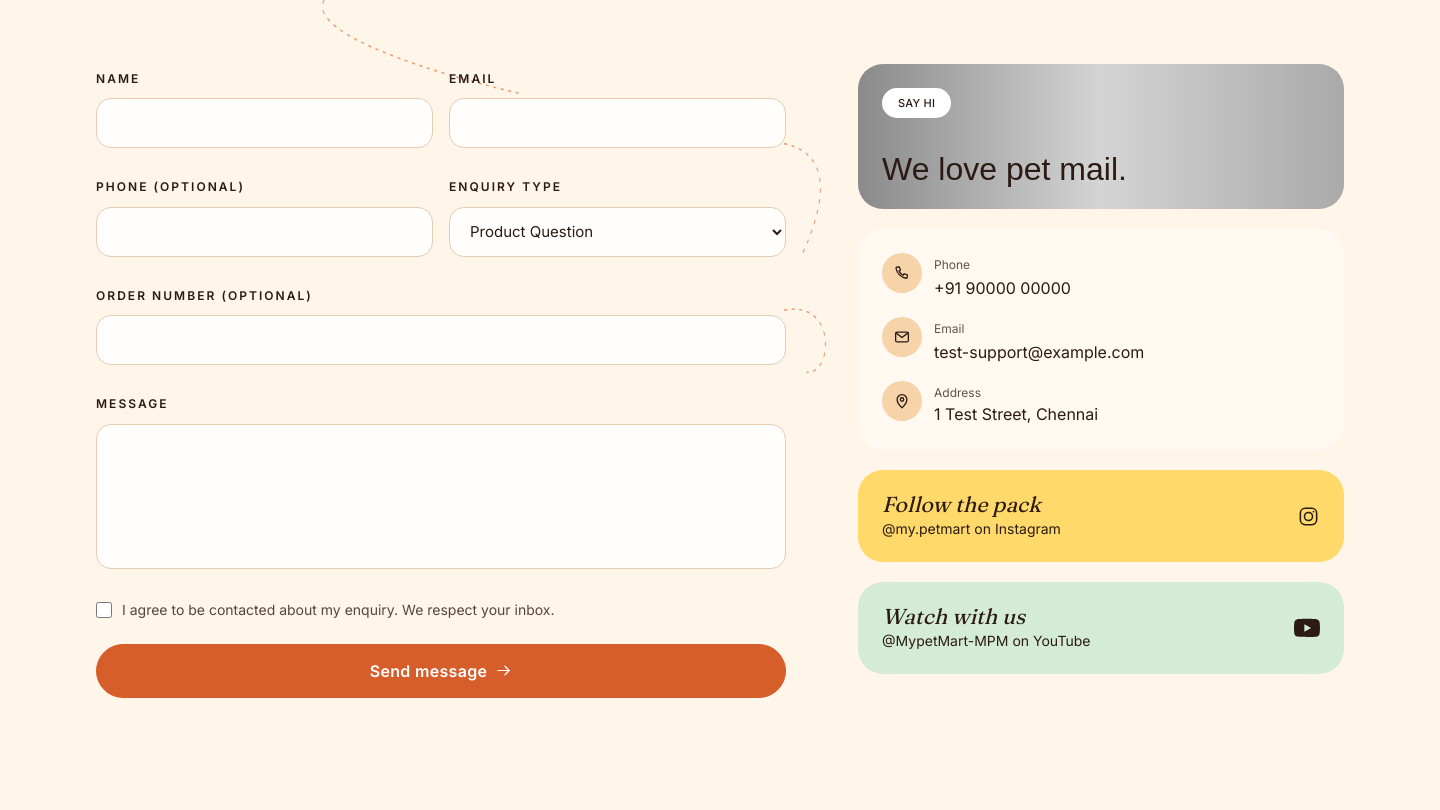
Test: ContactFormSection › shows a friendly inline error on API failure, without leaking raw error detail
Type "Priya Sharma" into the field labelled "Name". click: (264, 123)
box: [96,98,433,148]
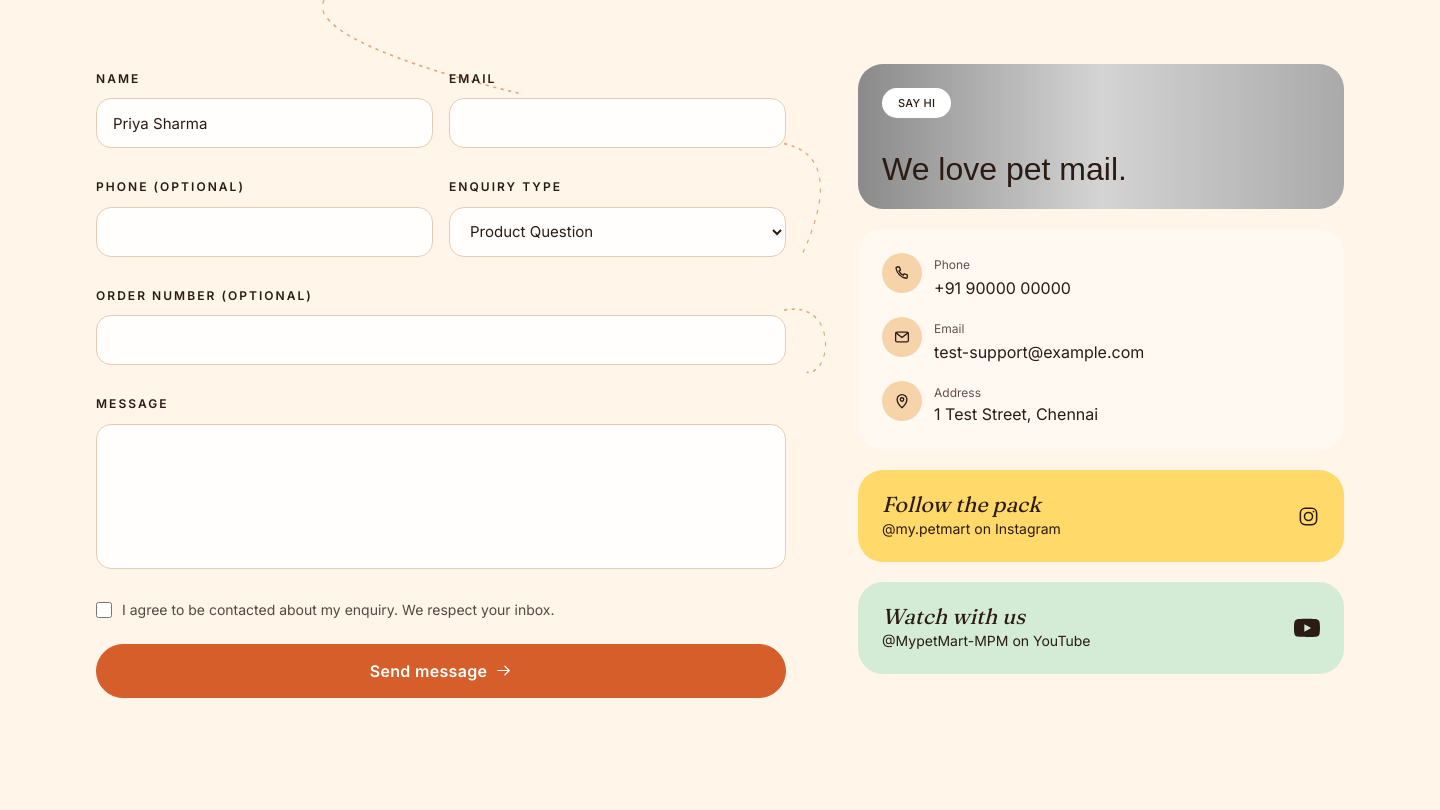
Type "priya@example.com" into the field labelled "Email". click: (618, 123)
box: [449,98,786,148]
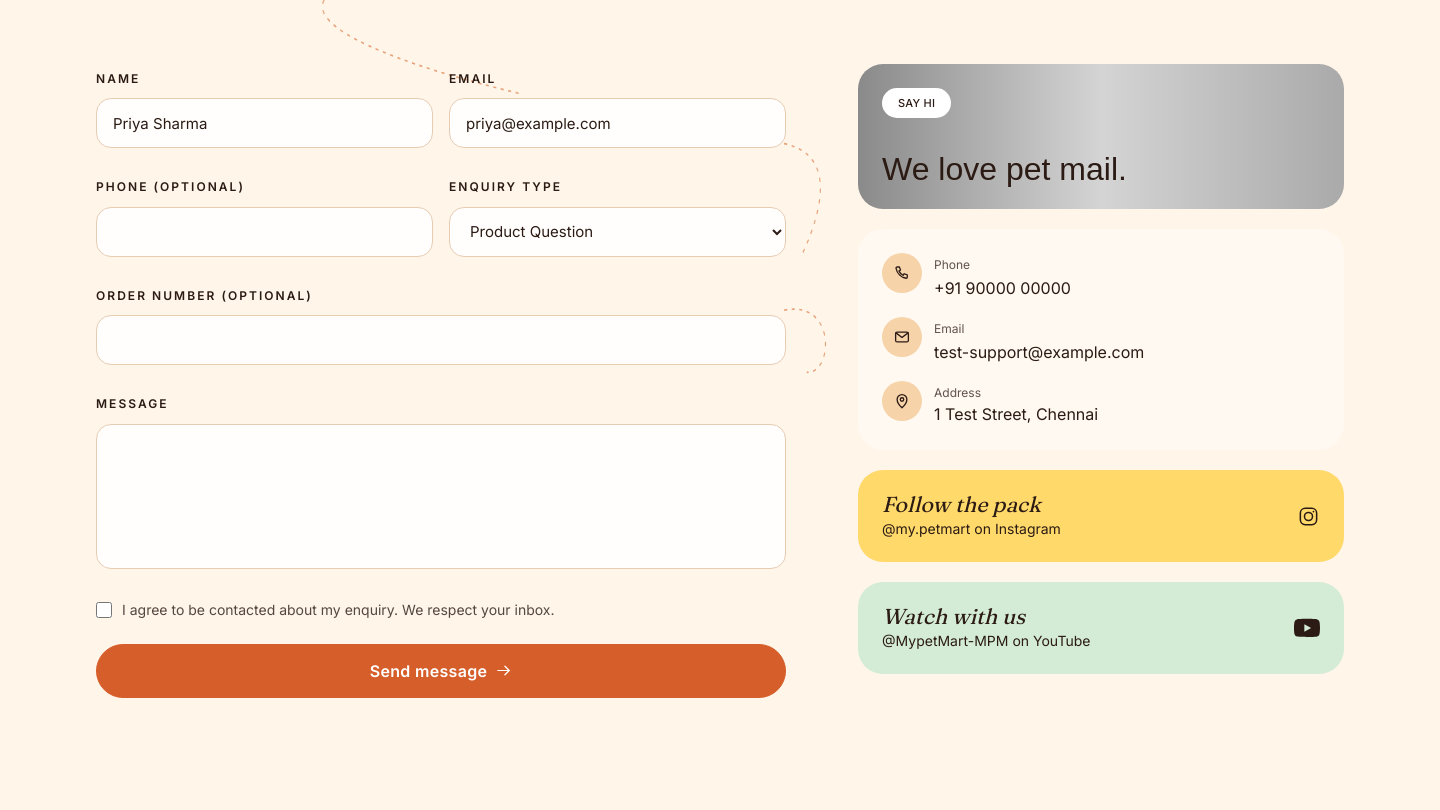
Type "Does this shampoo work for cats?" into the text box labelled "Message". click: (441, 496)
box: [96,424,786,569]
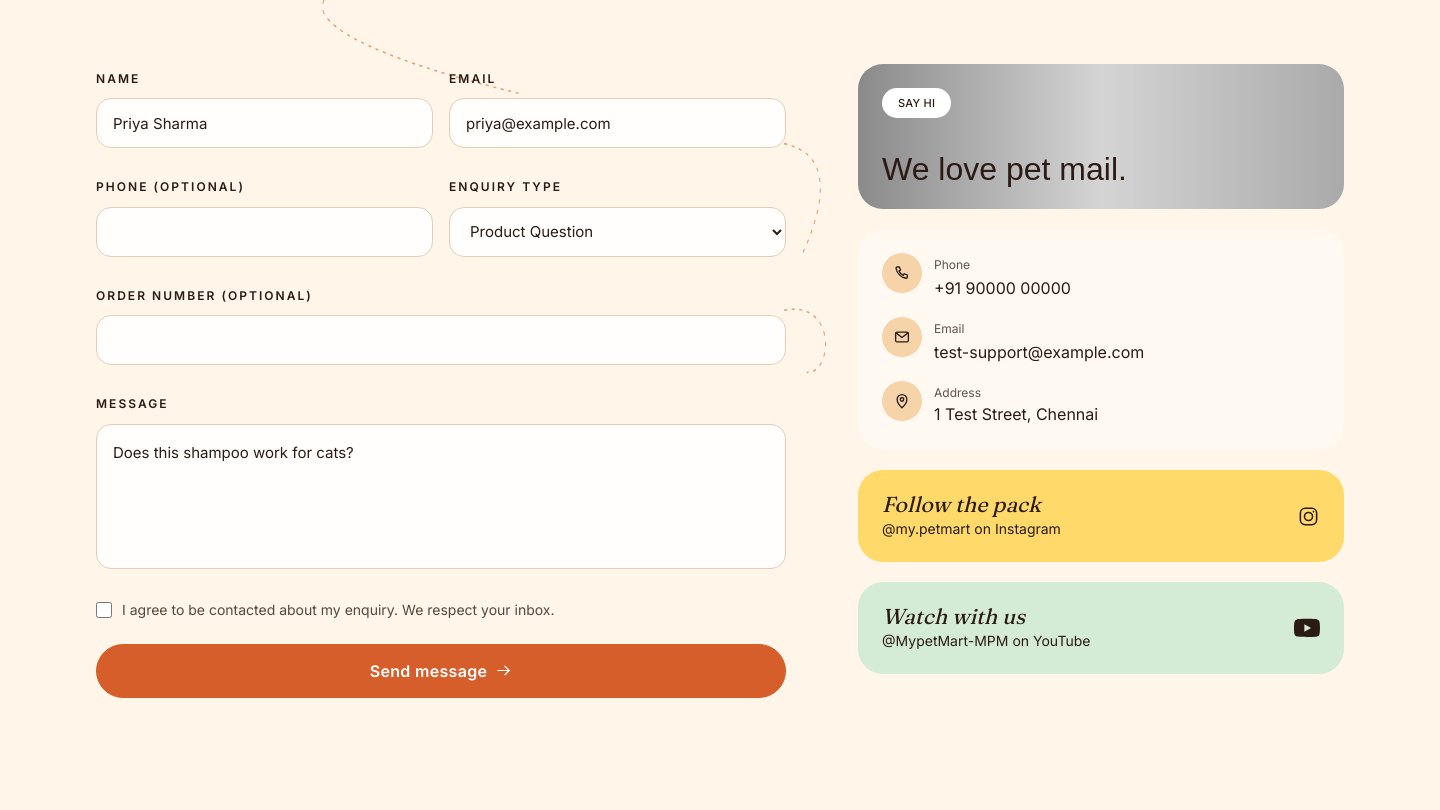
Click the checkbox labelled "I agree to be contacted". click: (104, 610)
box: [96,602,112,618]
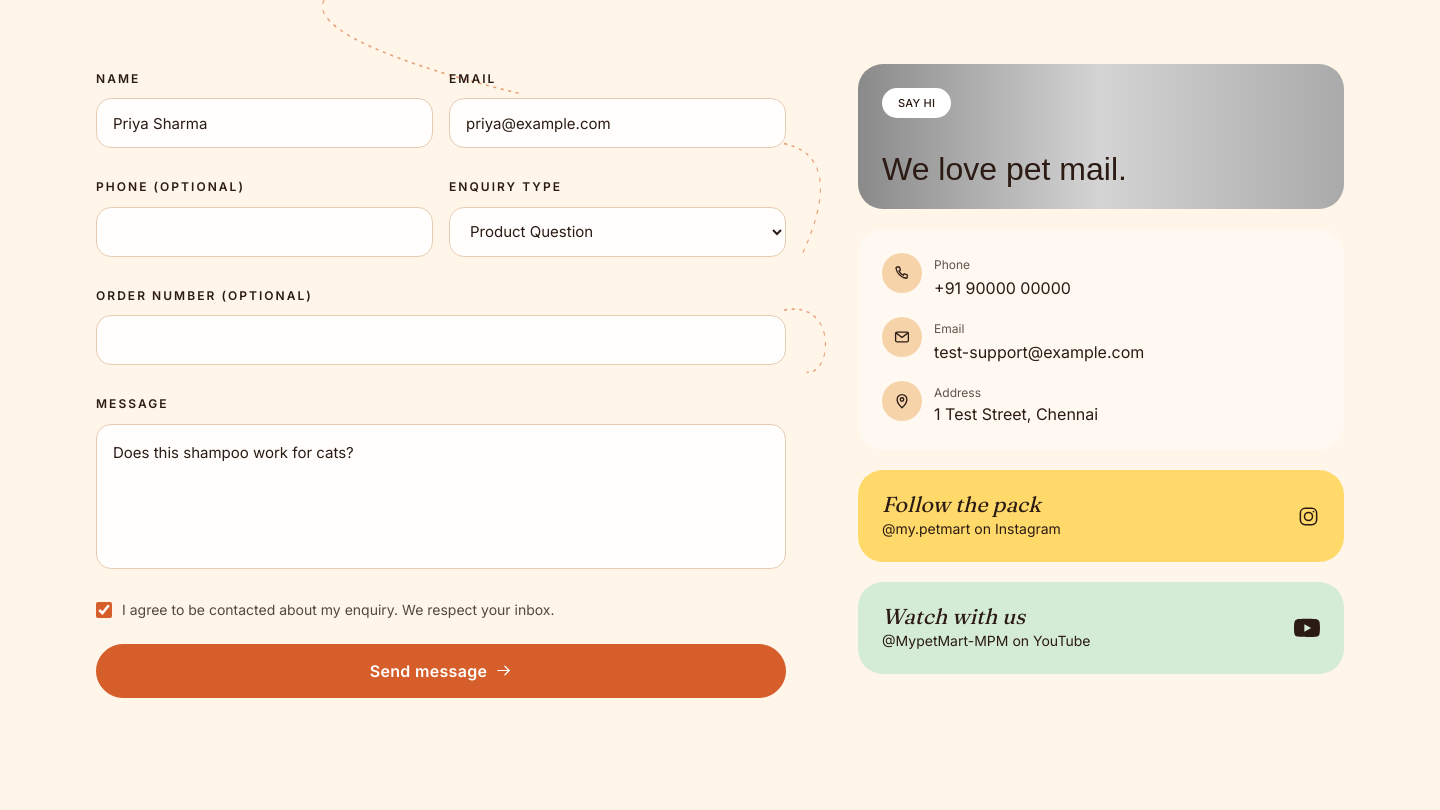
Click the button "Send message". click: (441, 671)
box: [96,644,786,698]
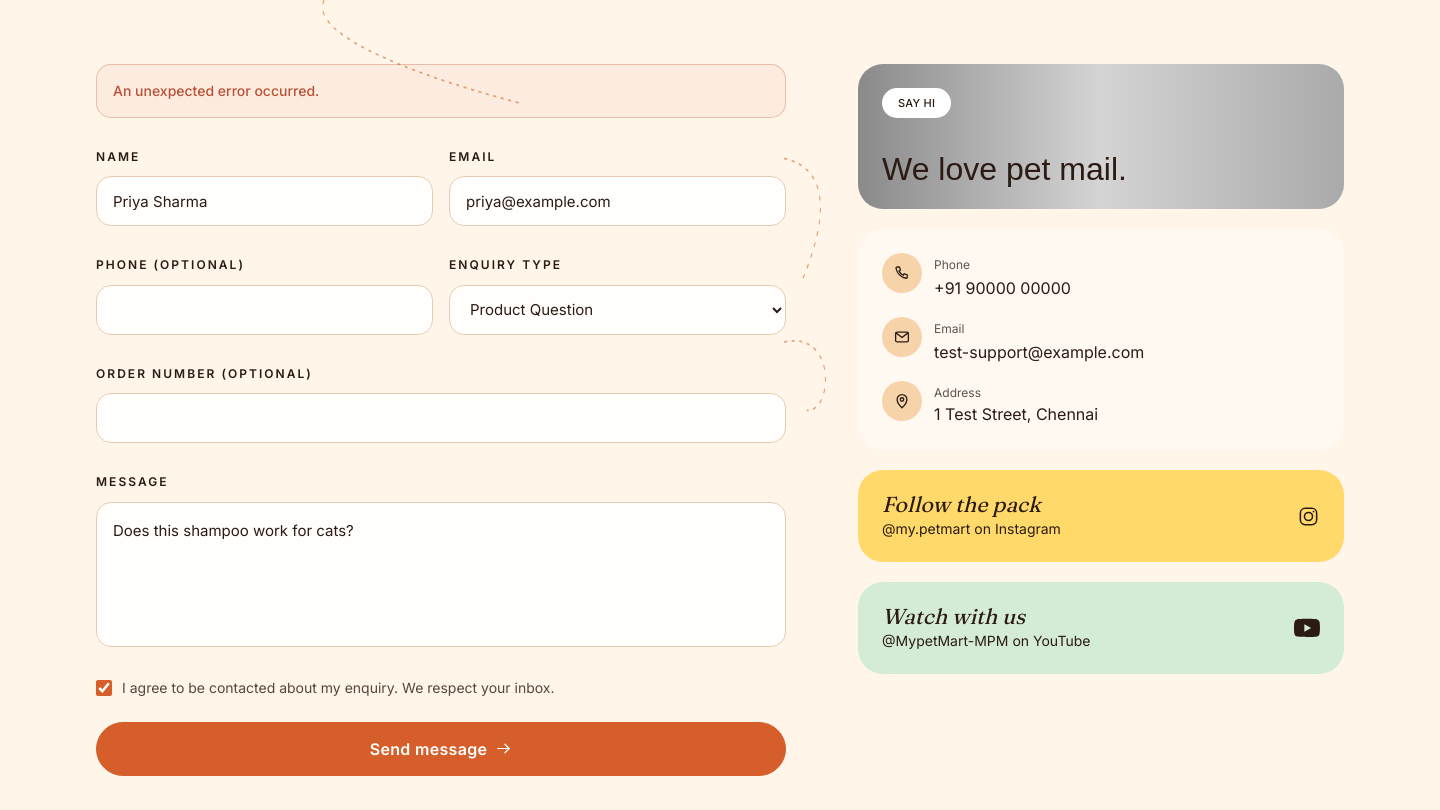
Expected: the button "Send message" is shown, [96,722,786,776]
Result: the message "An unexpected error occurred." is shown at [96,64,786,118]
